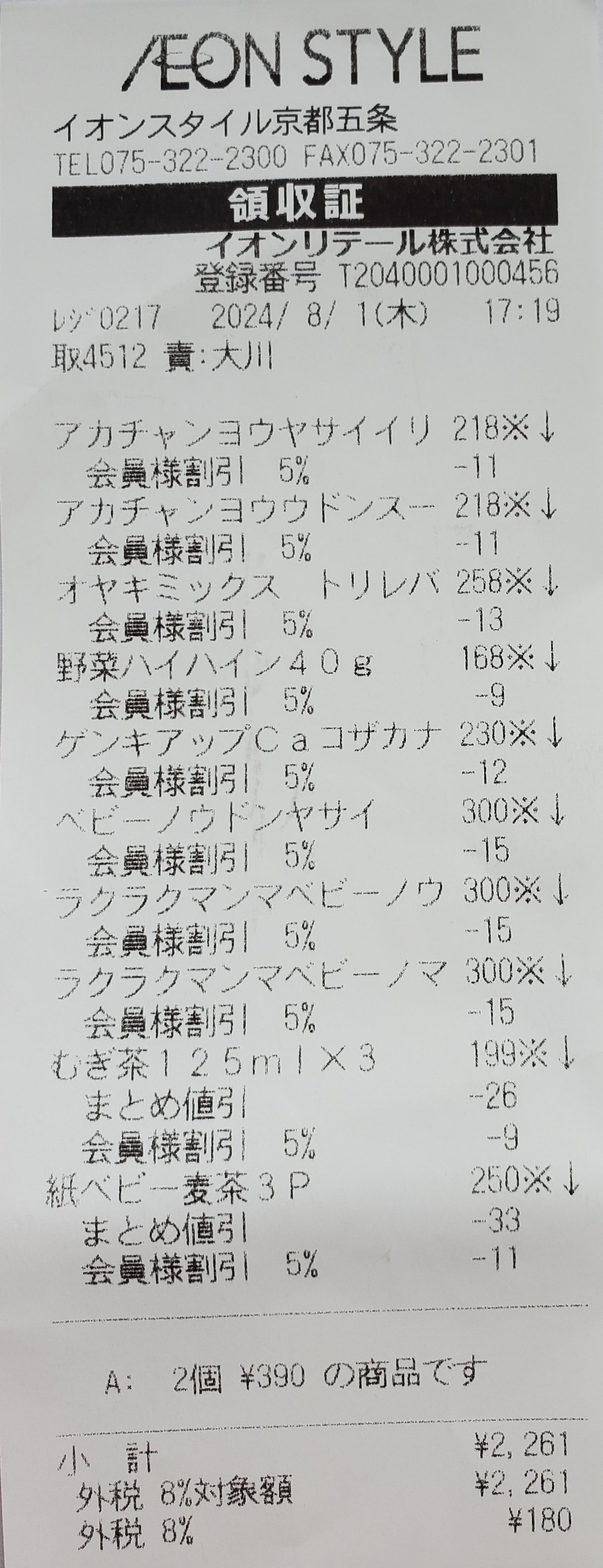Date: (187, 294, 376, 335)
Shopname: (110, 7, 516, 100)
Telnum: (98, 140, 293, 181)
